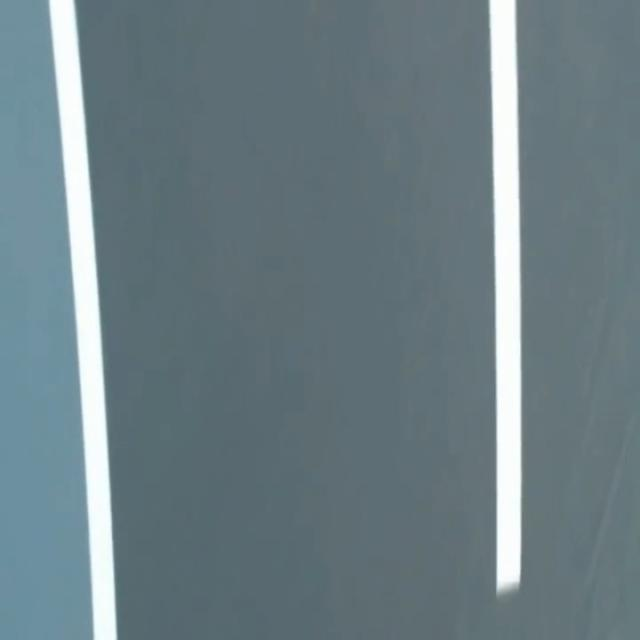center: (489, 0, 521, 595)
left: (48, 0, 116, 639)
